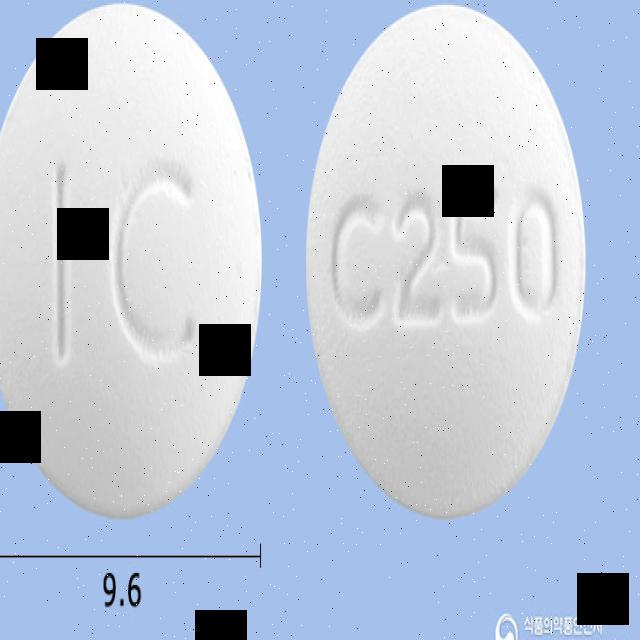Ciroctan - 500mg: (302, 0, 590, 525), (0, 0, 269, 523)
